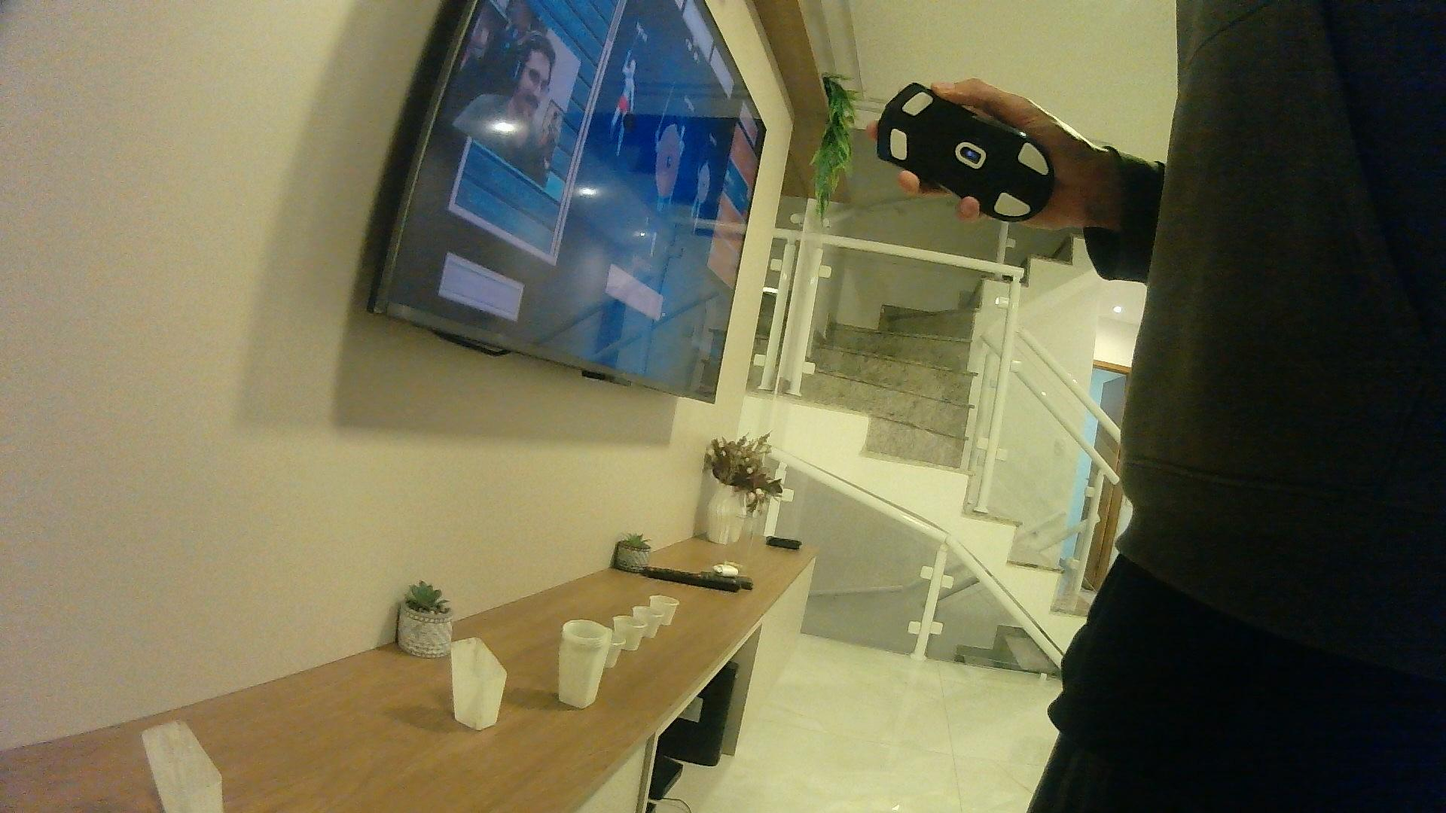erva_daninha: (136, 715, 238, 810), (444, 634, 515, 733)
planta: (610, 611, 651, 655), (646, 590, 681, 629), (633, 602, 666, 640), (606, 634, 625, 670)
